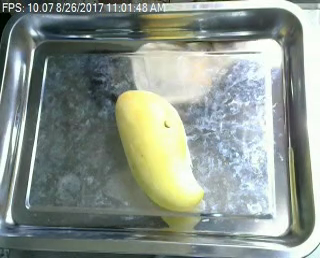Mango: (110, 82, 211, 213)
